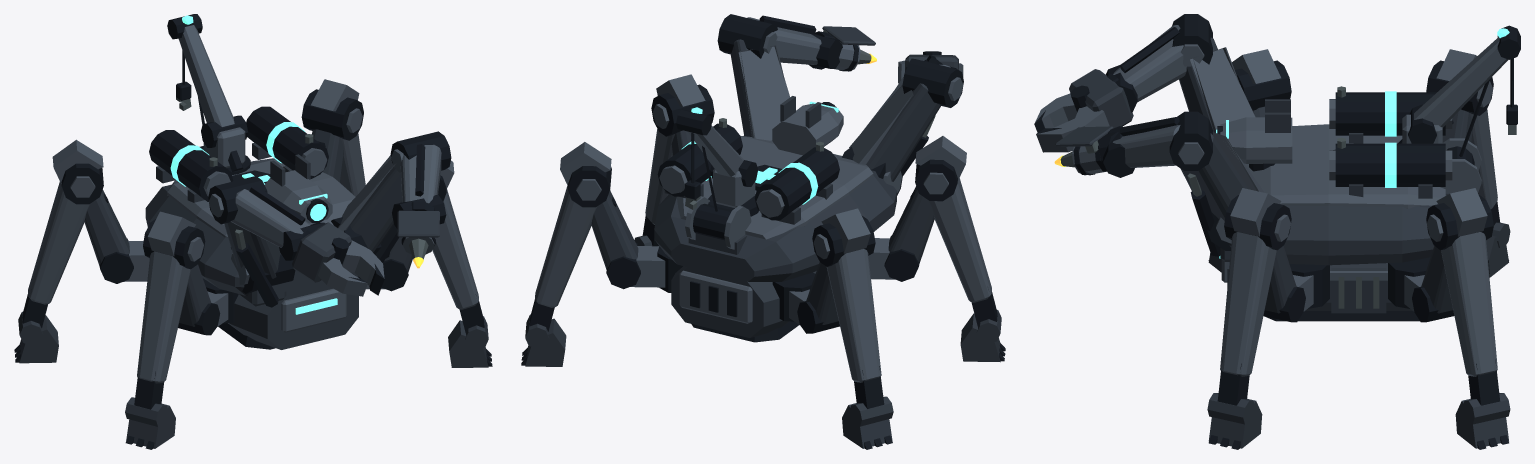
Rendered from m_welder.glb.
3 views of the same model, side by side, from view 1: azimuth 30°, elevation 25°; view 2: azimuth 150°, elevation 25°; view 3: azimuth 270°, elevation 25° (orthographic). The views are drawn at different scales.
Parts seen in each view (by area): view 1: Welder, Leg shin, Leg shin.003, Leg shin.001, Leg shin.002, Leg femur.003, Leg femur, Leg hoof.001, Leg hoof.003, Leg hoof, Leg femur.001, Leg femur.002 (+1 smaller); view 2: Welder, Leg shin.003, Leg shin, Leg shin.002, Leg shin.001, Leg femur.002, Leg femur, Leg femur.003, Leg hoof.002, Leg hoof, Leg hoof.003, Leg coxa.002 (+1 smaller); view 3: Welder, Leg shin.002, Leg shin.001, Leg shin.003, Leg shin, Leg femur.001, Leg femur.002, Leg hoof.001, Leg hoof.002, Leg hoof.003, Leg femur.003.
Part boxes in pixels (<box>): Welder: <box>145,14,451,349</box>; Leg shin: <box>125,211,205,426</box>; Leg shin.003: <box>18,139,108,345</box>; Leg shin.001: <box>432,160,488,350</box>; Leg shin.002: <box>301,79,365,196</box>; Leg femur.003: <box>84,189,133,283</box>; Leg femur: <box>178,264,220,335</box>; Leg hoof.001: <box>448,320,492,367</box>; Leg hoof.003: <box>14,315,58,363</box>; Leg hoof: <box>125,403,175,449</box>; Leg femur.001: <box>381,237,412,291</box>; Leg femur.002: <box>312,129,343,182</box>; Welder: <box>654,14,963,342</box>; Leg shin.003: <box>812,208,893,426</box>; Leg shin: <box>910,136,1001,344</box>; Leg shin.002: <box>525,142,616,348</box>; Leg shin.001: <box>634,74,714,246</box>; Leg femur.002: <box>591,190,640,289</box>; Leg femur: <box>884,186,934,281</box>; Leg femur.003: <box>797,262,839,333</box>; Leg hoof.002: <box>521,318,566,366</box>; Leg hoof: <box>960,313,1005,362</box>; Leg hoof.003: <box>842,403,892,449</box>; Leg coxa.002: <box>630,246,665,287</box>; Welder: <box>1034,14,1520,321</box>; Leg shin.002: <box>1426,188,1510,424</box>; Leg shin.001: <box>1207,188,1291,424</box>; Leg shin.003: <box>1426,49,1510,247</box>; Leg shin: <box>1232,49,1291,110</box>; Leg femur.001: <box>1263,246,1305,322</box>; Leg femur.002: <box>1412,246,1454,322</box>; Leg hoof.001: <box>1208,398,1262,449</box>; Leg hoof.002: <box>1455,399,1508,449</box>; Leg hoof.003: <box>1486,236,1508,277</box>; Leg femur.003: <box>1442,109,1472,142</box>.
Size of the model in its own units: 3.21 by 2.47 by 3.37.
